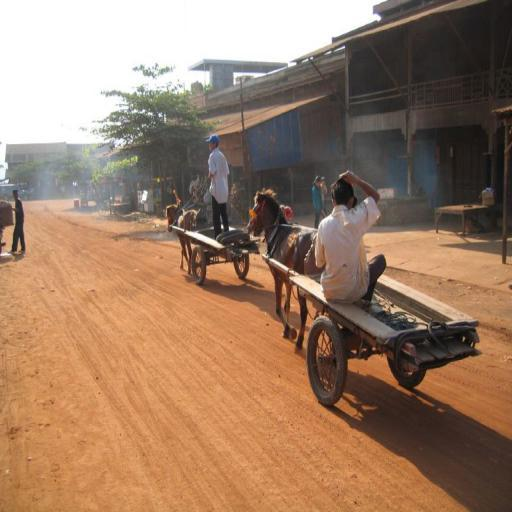horse: (245, 186, 323, 354), (163, 202, 198, 275)
